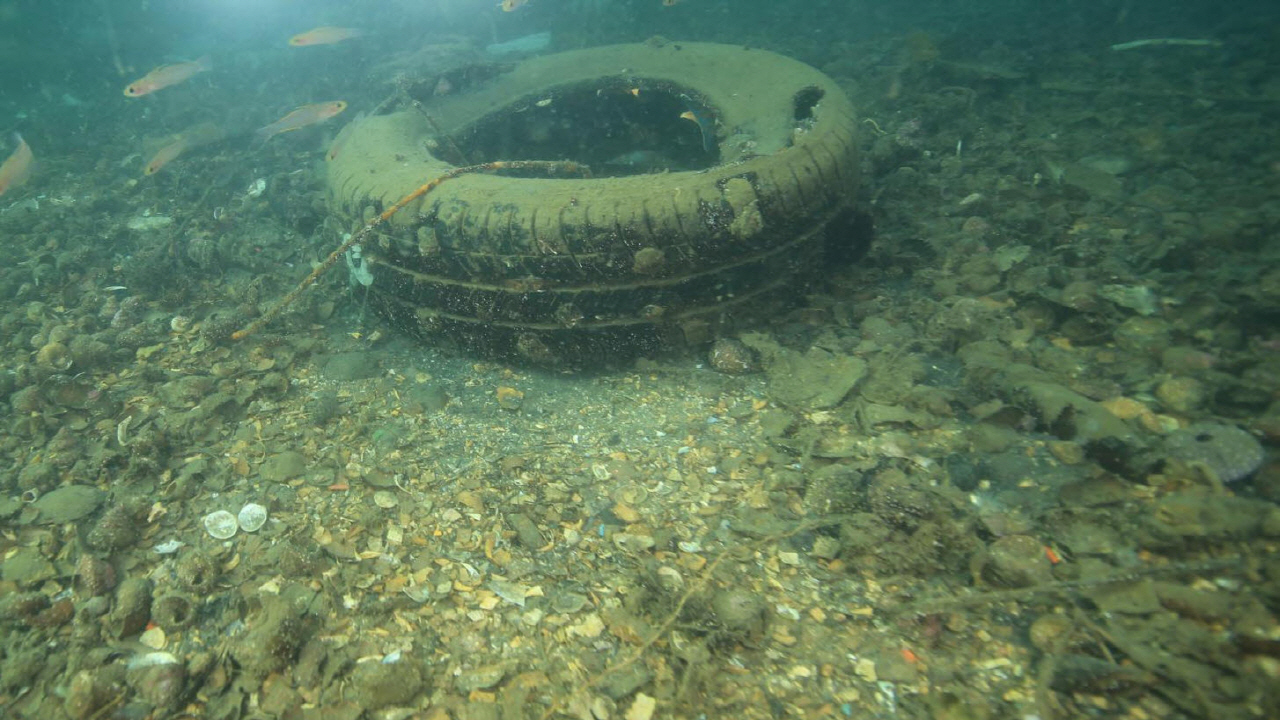tire: (325, 39, 859, 366)
